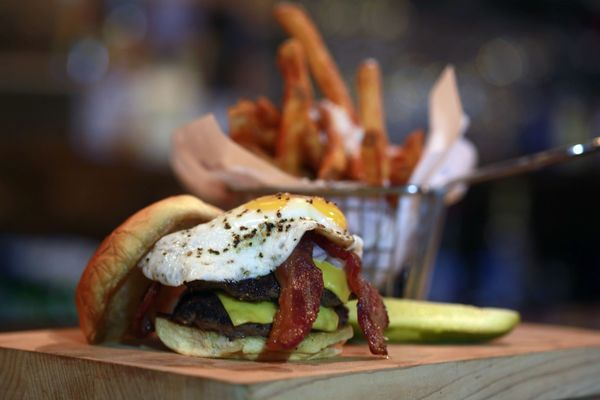soup: (131, 192, 391, 361)
